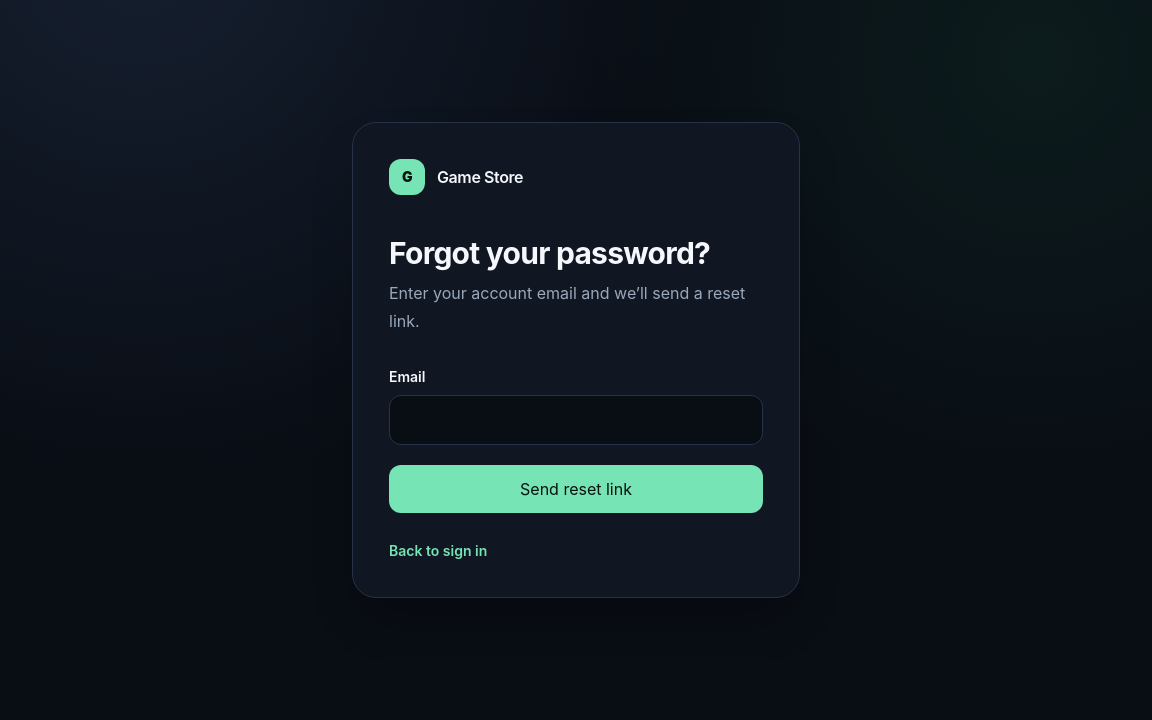
keeps recovery acknowledgments generic
Type "unknown@example.com" into the field labelled "Email" at (576, 420), box [389,395,763,445]
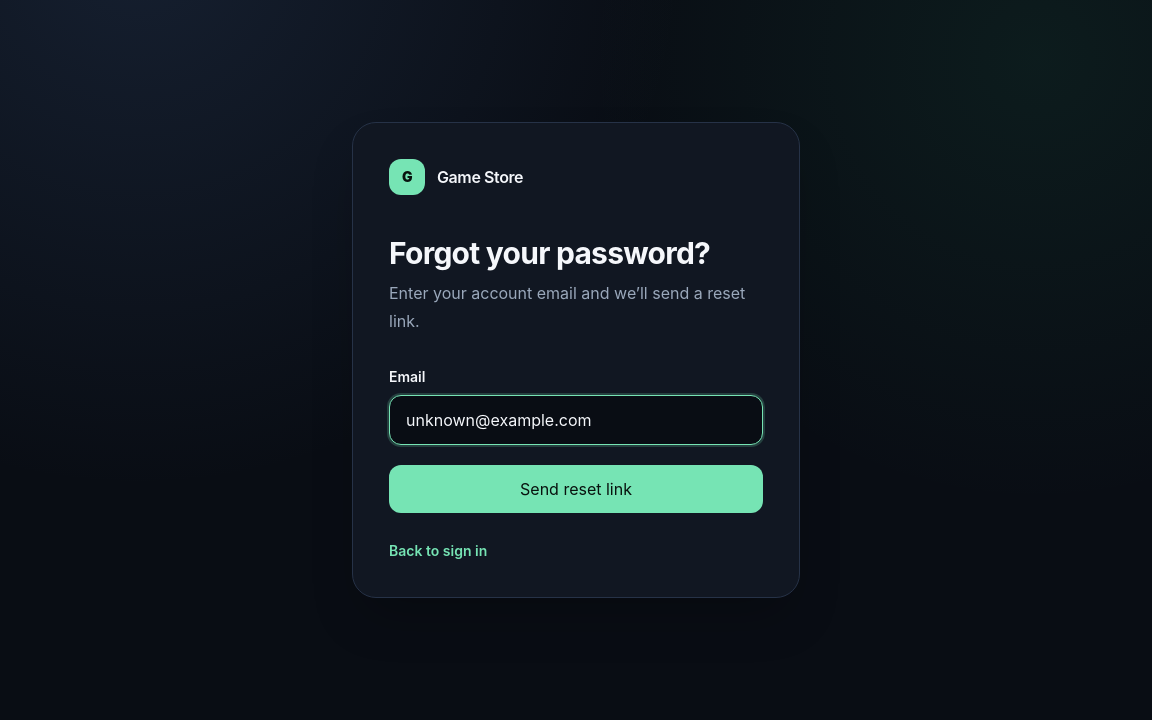
Click the button "Send reset link" at (576, 489), box [389,465,763,513]
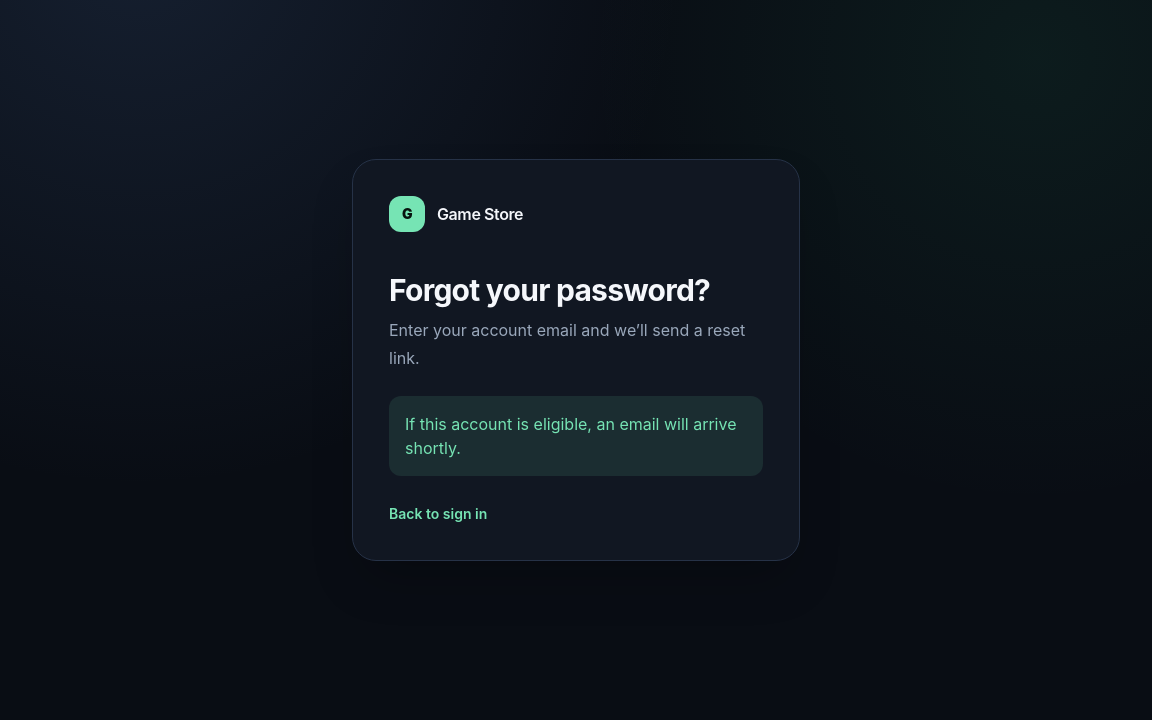
expect the message shows "If this account is eligible": met, box [405,414,736,458]
